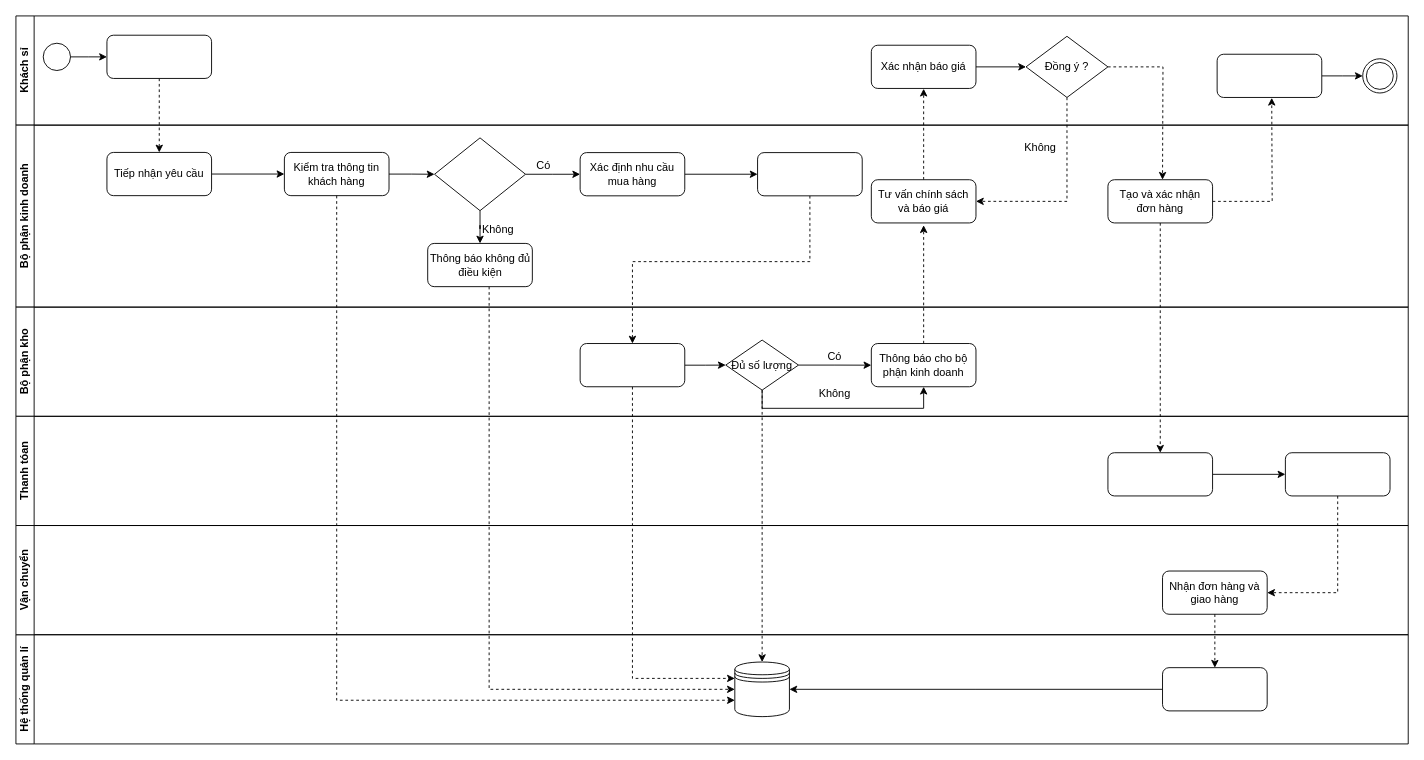
This 1424x760 diagram has some shape labels left out. Each missing label, with the centre of its shape:
Bàn giao cho đơn vị vận chuyển: the point at 1337,474
Cập nhật trạng thái đơn hàng: the point at 1214,689
Gửi yêu cầu mua sỉ: the point at 159,56
Kiểm tra tồn kho: the point at 632,365
Nhận hàng và thanh toán: the point at 1269,75
Thông báo kiểm tra tồn kho: the point at 809,174
Xác nhận thanh toán: the point at 1160,474
Đủ điều kiện mua sỉ?: the point at 480,174
